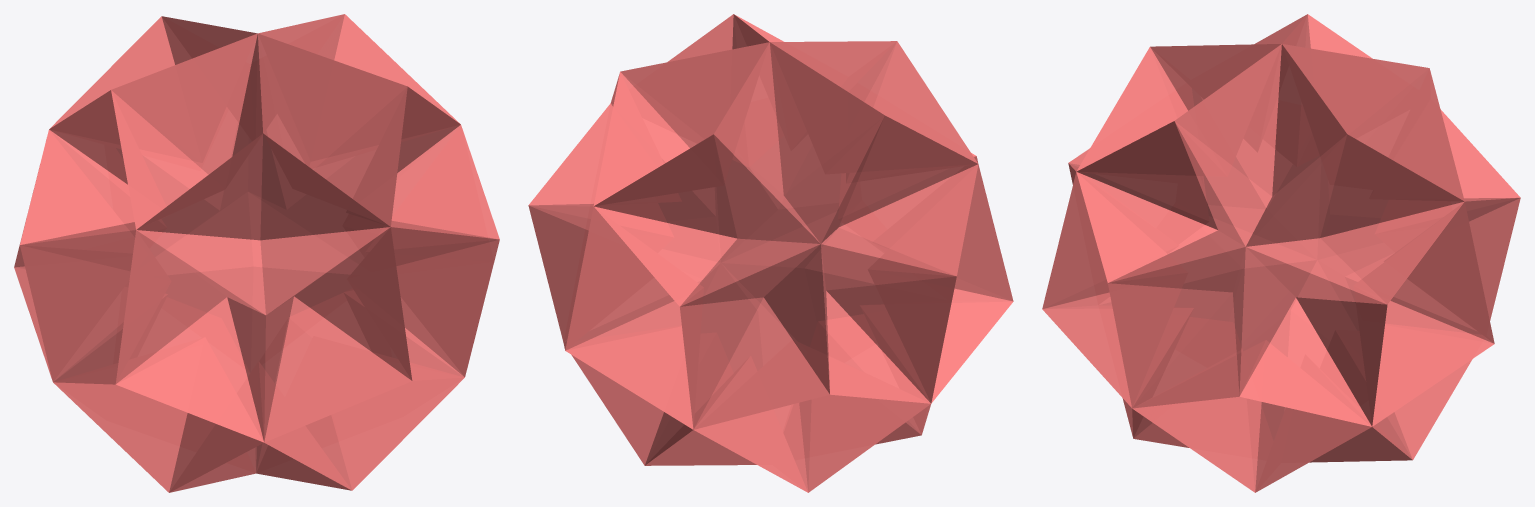
The model's file is Mobius120b.obj.
3 renders of one model, left to right at view 1: azimuth 30°, elevation 25°; view 2: azimuth 150°, elevation 25°; view 3: azimuth 270°, elevation 25°, orthographic. The views are drawn at different scales.
Size of the model in its own units: 3.09 by 3.02 by 3.11.
